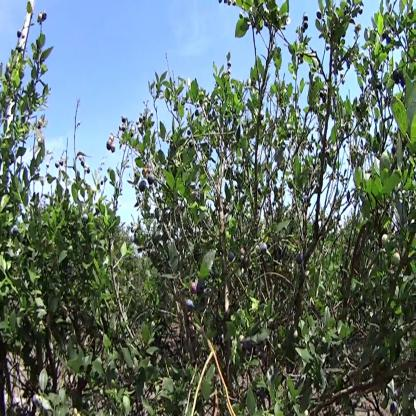intermediate: (190, 279, 198, 298)
mature: (185, 296, 195, 313), (148, 170, 156, 189), (139, 178, 148, 194)
young: (120, 311, 130, 332), (394, 252, 403, 268), (380, 234, 389, 249)
